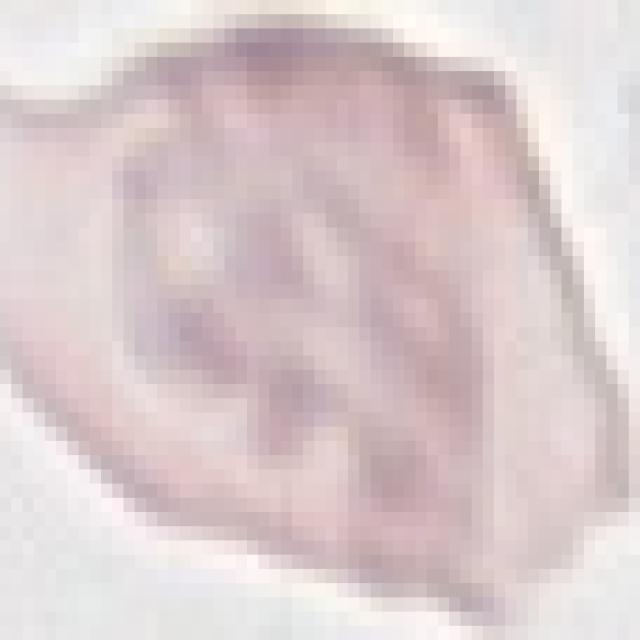nucleus: (17, 50, 585, 628)
